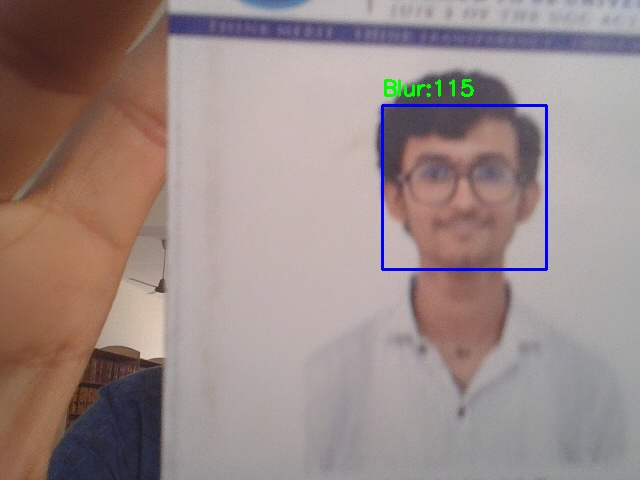fake: (382, 105, 546, 269)
